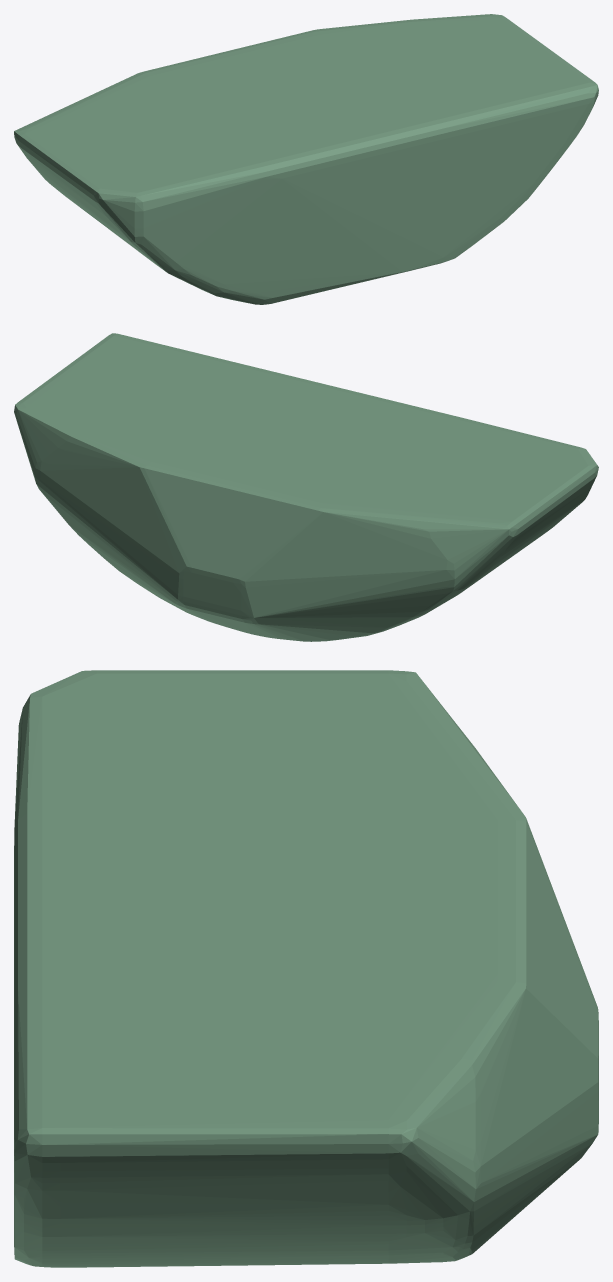
File: left_shoulder_roll_link_part_0.obj
3 views of the same model, one above another, from view 1: azimuth 30°, elevation 25°; view 2: azimuth 150°, elevation 25°; view 3: azimuth 270°, elevation 25° (orthographic). The views are drawn at different scales.
Bounding box in the file's own units: 0.0847 × 0.0256 × 0.0449.
